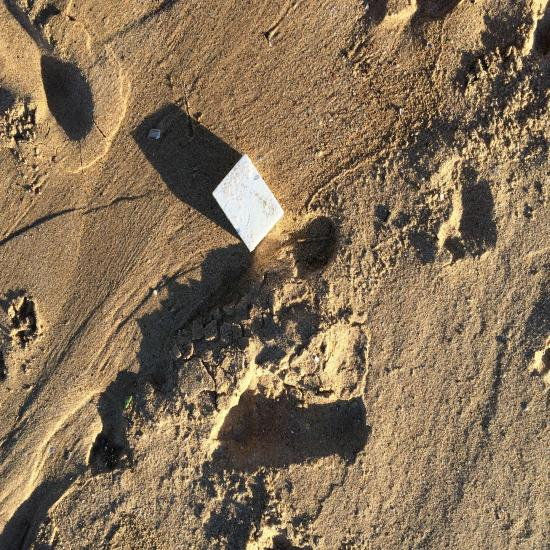Other plastic bottle: (418, 142, 425, 154)
Styrofoam piece: (266, 298, 338, 397)
